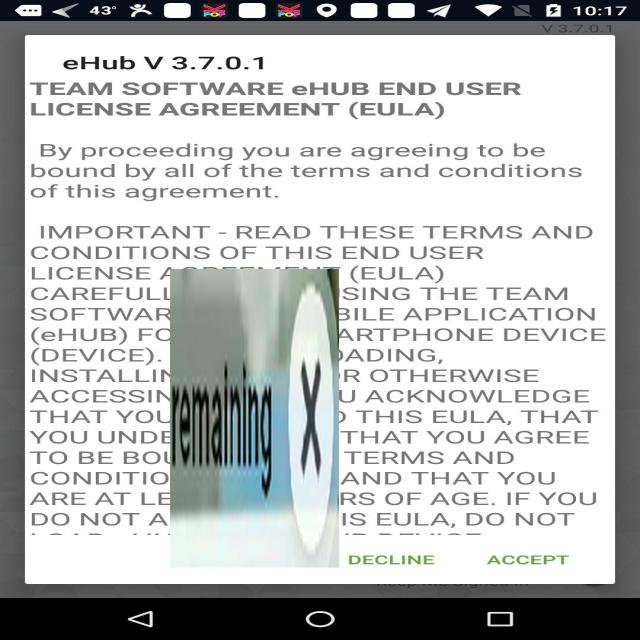misdirection: (170, 269, 339, 568)
